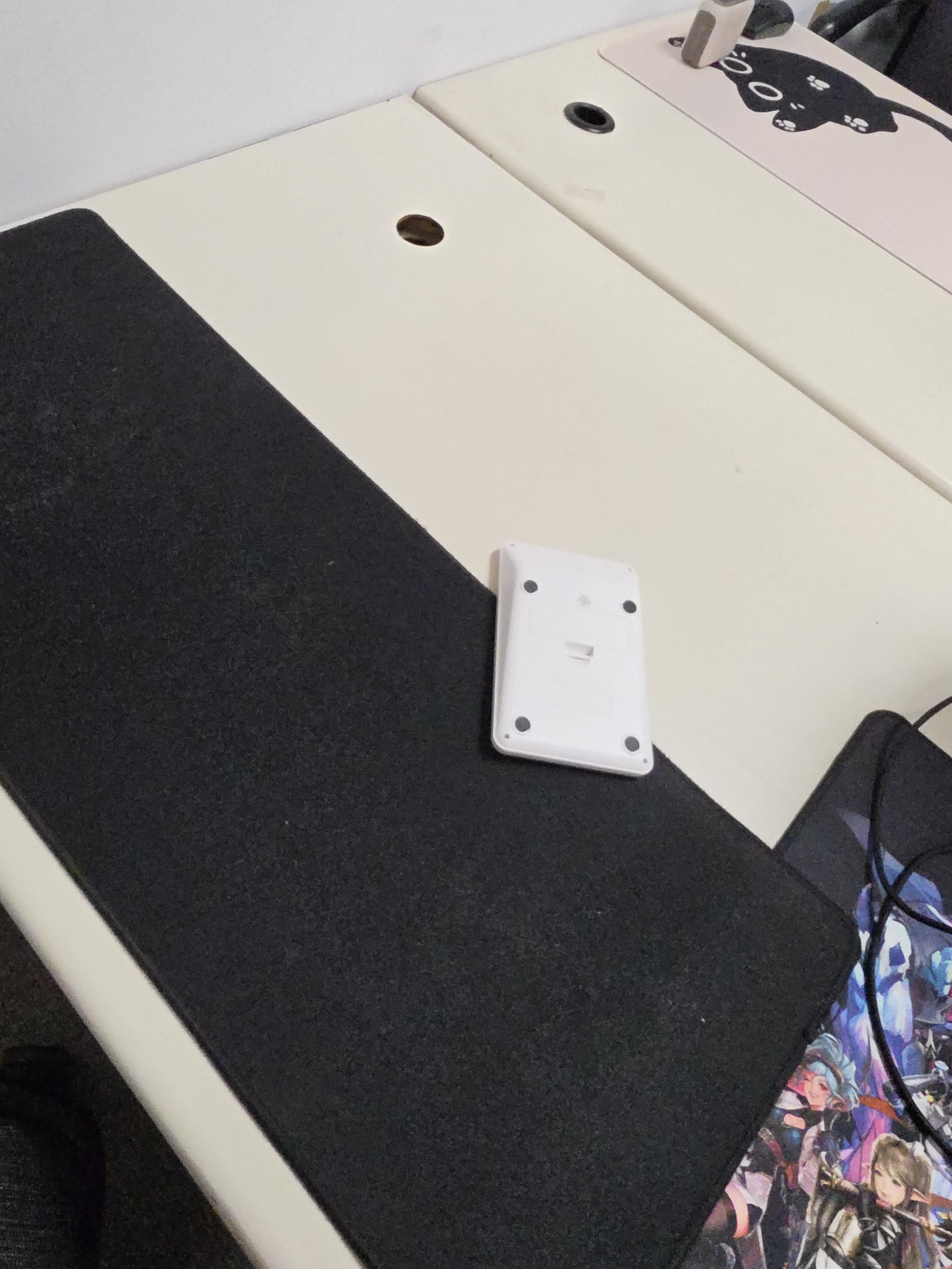calculator: (491, 542, 654, 778)
